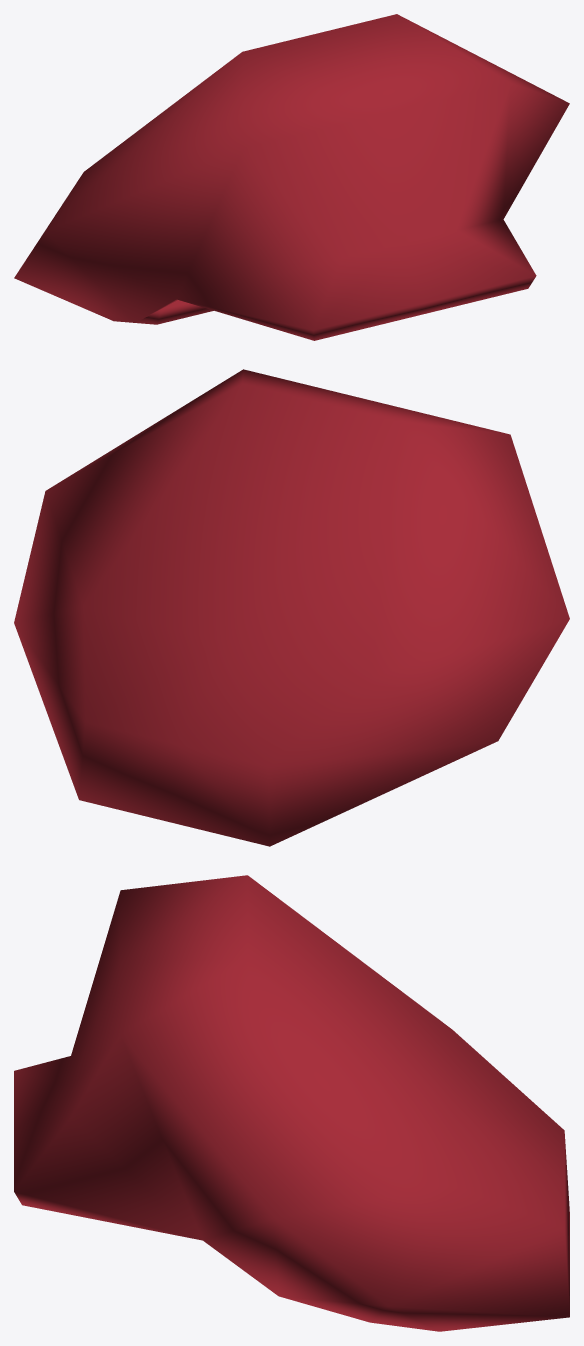
File: hat.glb
The picture shows the model from 3 angles, top to bottom: view 1: azimuth 30°, elevation 25°; view 2: azimuth 150°, elevation 25°; view 3: azimuth 270°, elevation 25°; orthographic projection. The views are drawn at different scales.
Visible parts, largest first — view 1: Hat; view 2: Hat; view 3: Hat.
Part boxes in pixels (x1,y1,x2,y2): Hat: (14, 14, 569, 340); Hat: (14, 369, 569, 846); Hat: (14, 875, 569, 1331).
Size of the model in its own units: 0.3589 by 0.22 by 0.297.
1 material, 1 textured.
